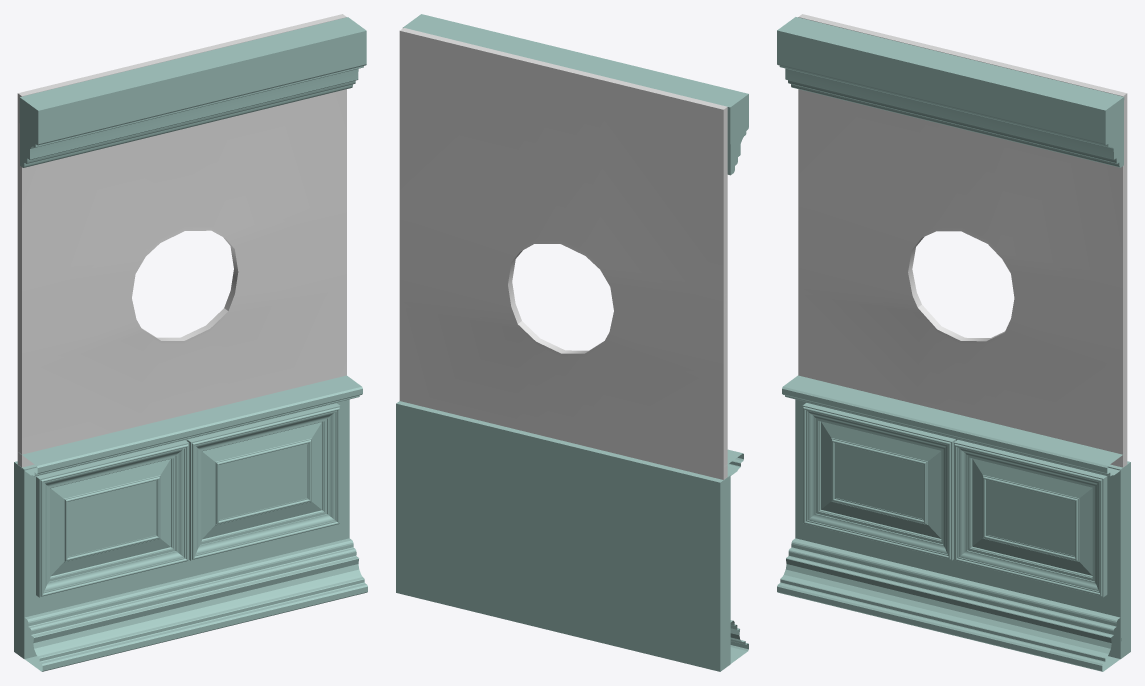
File: paredventana.fbx
The picture shows the model from 3 angles, left to right: view 1: azimuth 30°, elevation 25°; view 2: azimuth 150°, elevation 25°; view 3: azimuth 330°, elevation 25°; orthographic projection.
Parts seen in each view (by area): view 1: pared, Box001; view 2: Box001, pared; view 3: pared, Box001.
Boxes of the visible parts, x1,y1,x2,y2 form: pared: (14, 17, 367, 671); Box001: (17, 14, 346, 467); Box001: (399, 28, 727, 479); pared: (396, 14, 748, 671); pared: (777, 17, 1130, 671); Box001: (798, 14, 1127, 467).
Bounding box in the file's own units: 75.41 × 123 × 11.42.
